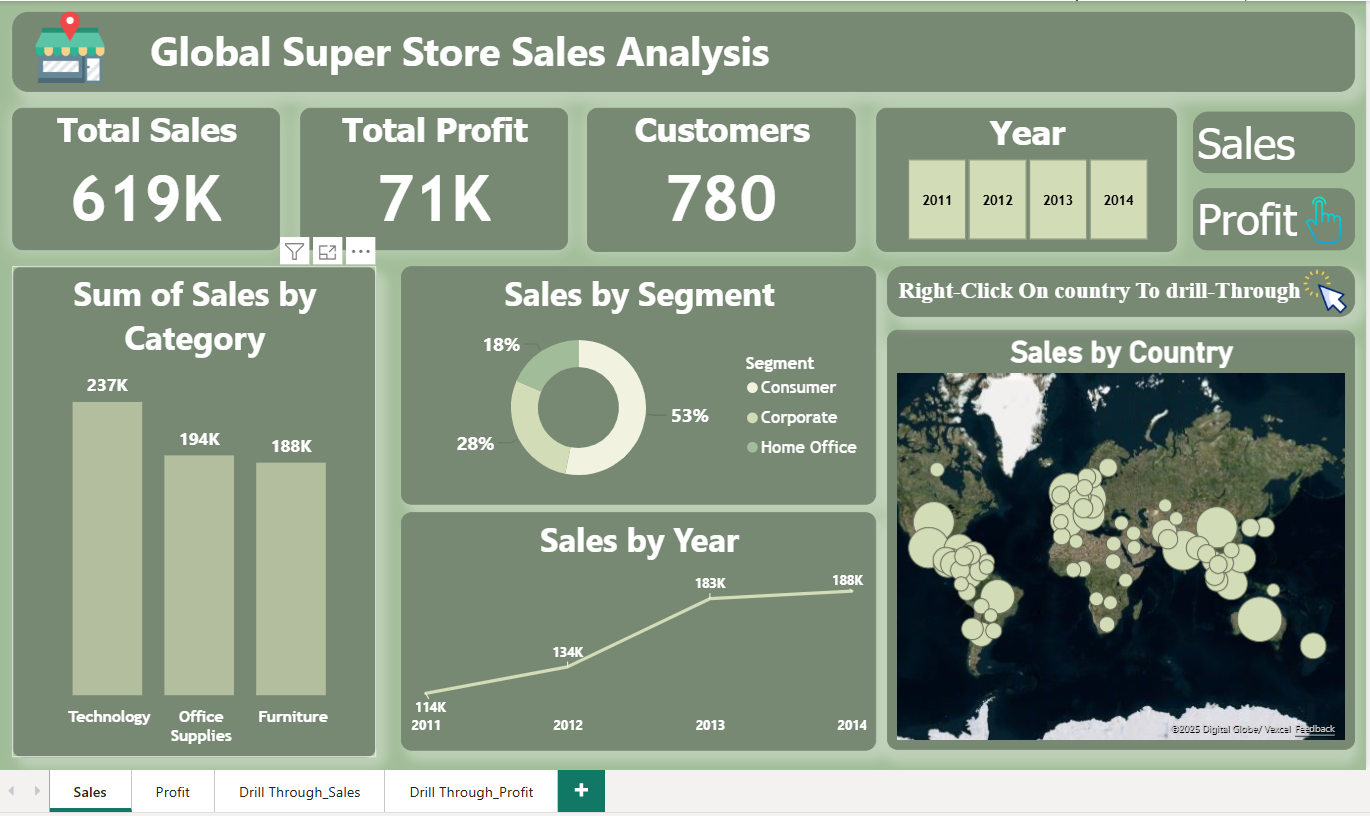

This screenshot's page, from the dashboard's own definition file:
{"tool":"powerbi","page":{"name":"Sales","canvas":[1280,720],"ordinal":0},"visuals":[{"type":"textbox","box":[12.4,10.1,1257.5,75.3],"z":0},{"type":"image","box":[12.4,10.1,107.9,66.3],"z":1000},{"type":"cardVisual","title":"Customers","fields":{"Data":["Dax Measure.Customers"]},"box":[551,99.9,251.7,134.9],"z":2000},{"type":"cardVisual","title":"Total Sales","fields":{"Data":["Dax Measure.T_Sales"]},"box":[12.4,100.4,250.6,133.7],"z":3000},{"type":"cardVisual","title":"Total Profit","fields":{"Data":["Dax Measure.T_profit"]},"box":[281.7,100.4,250.6,133.7],"z":4000},{"type":"shape","box":[1118.1,103.4,151.7,58],"z":5000},{"type":"shape","box":[1118.1,175.3,151.7,58.4],"z":6000},{"type":"columnChart","title":"Sum of Sales by Category","fields":{"Category":["Orders.Category"],"Y":["Dax Measure.T_Sales"]},"box":[12.4,248.4,340.5,459.6],"z":7000},{"type":"donutChart","title":"Sales by Segment","fields":{"Category":["Orders.Segment"],"Y":["Dax Measure.T_Sales"]},"box":[376.5,248.4,445,223.6],"z":8000},{"type":"slicer","title":"Year","fields":{"Values":["Orders.Order Date.Variation.Date Hierarchy.Year"]},"box":[821.5,100,282.1,134.9],"z":9000},{"type":"lineChart","title":"Sales by Year","fields":{"Category":["Orders.Order Date.Variation.Date Hierarchy.Year"],"Y":["Dax Measure.T_Sales"]},"box":[376.5,478.7,445,223],"z":10000},{"type":"azureMap","title":"Sales by Country","fields":{"Category":["Orders.Country"],"Size":["Dax Measure.T_Sales"]},"box":[831.6,307.9,438.3,393.3],"z":11000},{"type":"textbox","box":[831.6,248.4,438.3,47.2],"z":12000},{"type":"image","box":[1218.2,183.2,43.8,43.8],"z":13000},{"type":"image","box":[1221.5,248.4,40.5,47.2],"z":14000}]}

Visuals, with their boxes on the page's 1280x720 design canvas (x1, y1, x2, y2). These are canvas units, not pixel positions in the 1370x816 screenshot, which may show the page scaled, cropped or inside an application window:
textbox: box(12, 10, 1270, 85)
image: box(12, 10, 120, 76)
"Customers" cardVisual: box(551, 100, 803, 235)
"Total Sales" cardVisual: box(12, 100, 263, 234)
"Total Profit" cardVisual: box(282, 100, 532, 234)
shape: box(1118, 103, 1270, 161)
shape: box(1118, 175, 1270, 234)
"Sum of Sales by Category" columnChart: box(12, 248, 353, 708)
"Sales by Segment" donutChart: box(376, 248, 822, 472)
"Year" slicer: box(822, 100, 1104, 235)
"Sales by Year" lineChart: box(376, 479, 822, 702)
"Sales by Country" azureMap: box(832, 308, 1270, 701)
textbox: box(832, 248, 1270, 296)
image: box(1218, 183, 1262, 227)
image: box(1222, 248, 1262, 296)
